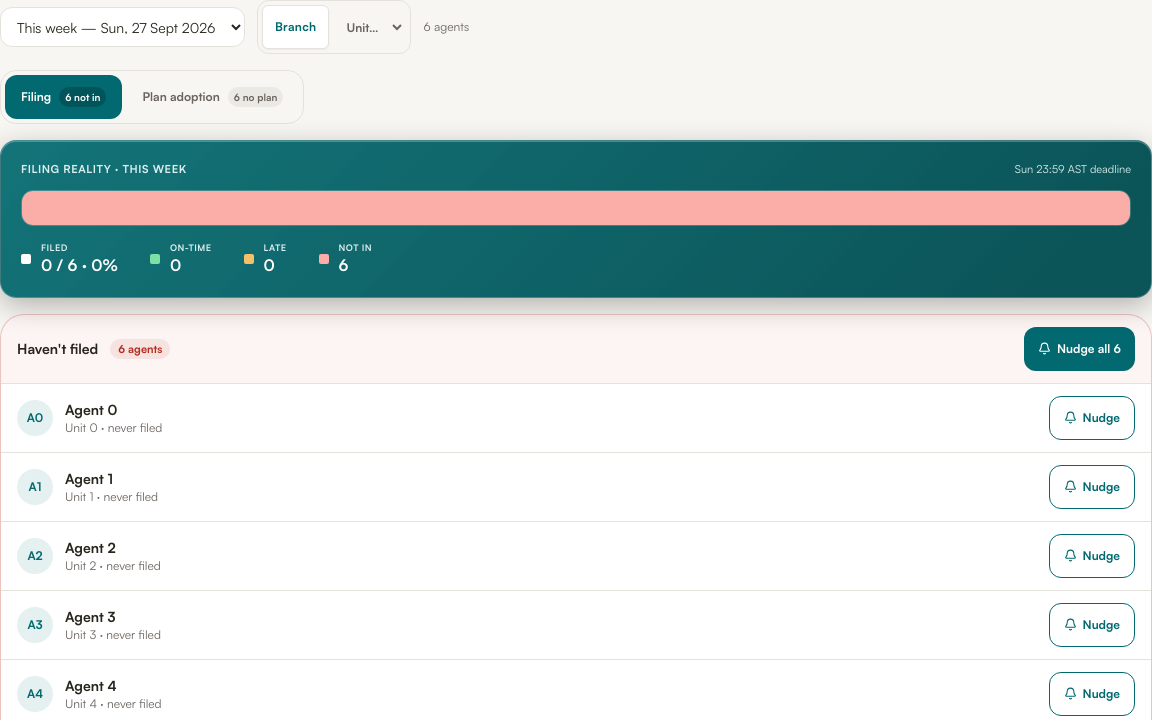
Test: CompliancePanel — S4 explicit ScopeSwitch › >5 unit segments collapse into a select beside the Branch button
Expected: the element with test id "compliance-reality-bar" is shown, [0,140,1151,298]
Expected: the button with test id "compliance-scope-branch" is shown, [262,5,329,49]
Select "Unit 2" in the dropdown with test id "compliance-scope-unit-select": [370, 27] box [333,5,406,49]
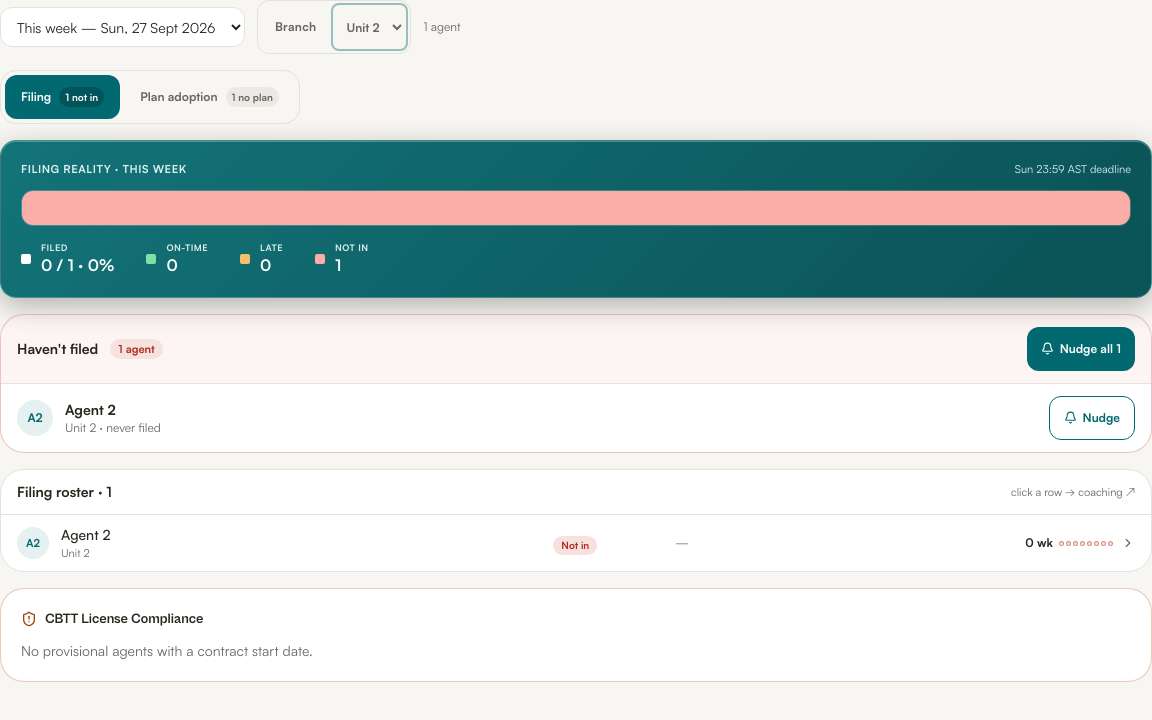
Now the number of elements with test id "compliance-roster-row" is 1, box [1,515,1151,571]
